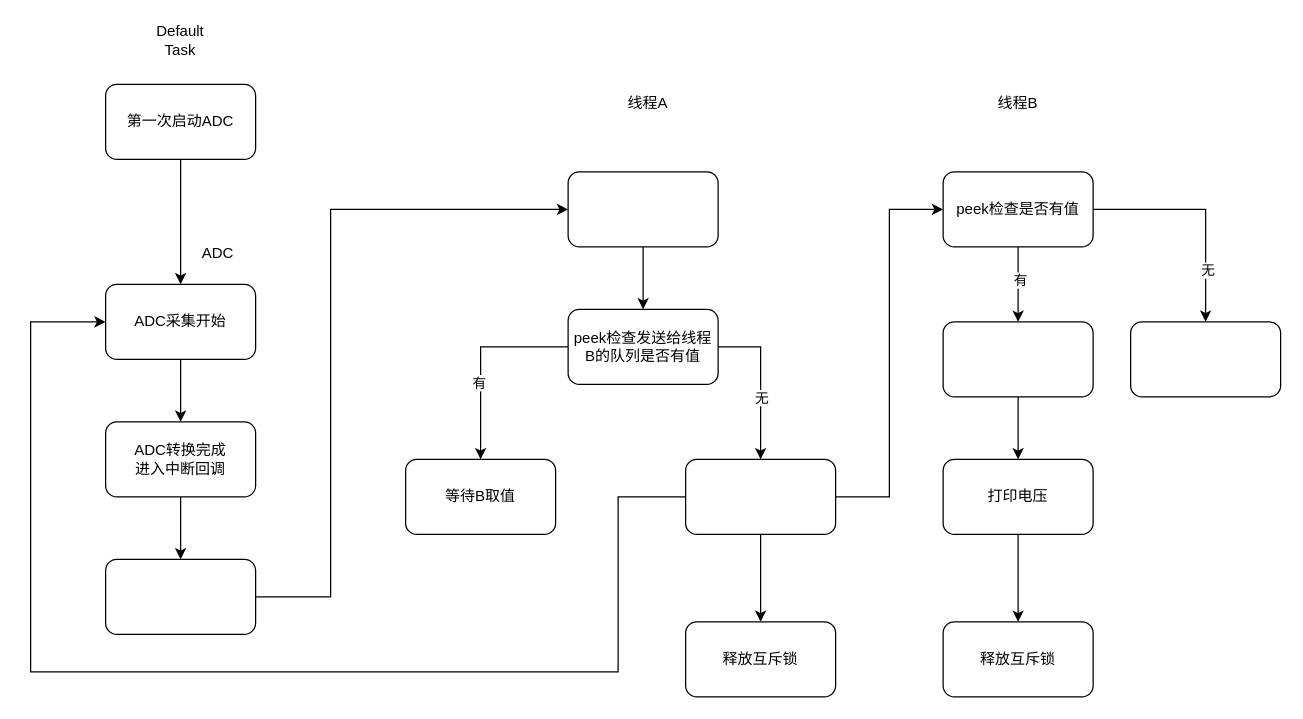
The diagram is 1303 pixels wide and 719 high, and some of its shapes have lost their labels. Each missing label, with the centre of its shape:
取互斥锁然后取值: pixel 1017 359
取互斥锁，向B发送通知，启动ADC采集（切换Buffer接收）: pixel 760 496
向线程A发送通知: pixel 180 596
等待: pixel 1205 359
阻塞式接收中断发来的通知: pixel 642 209
